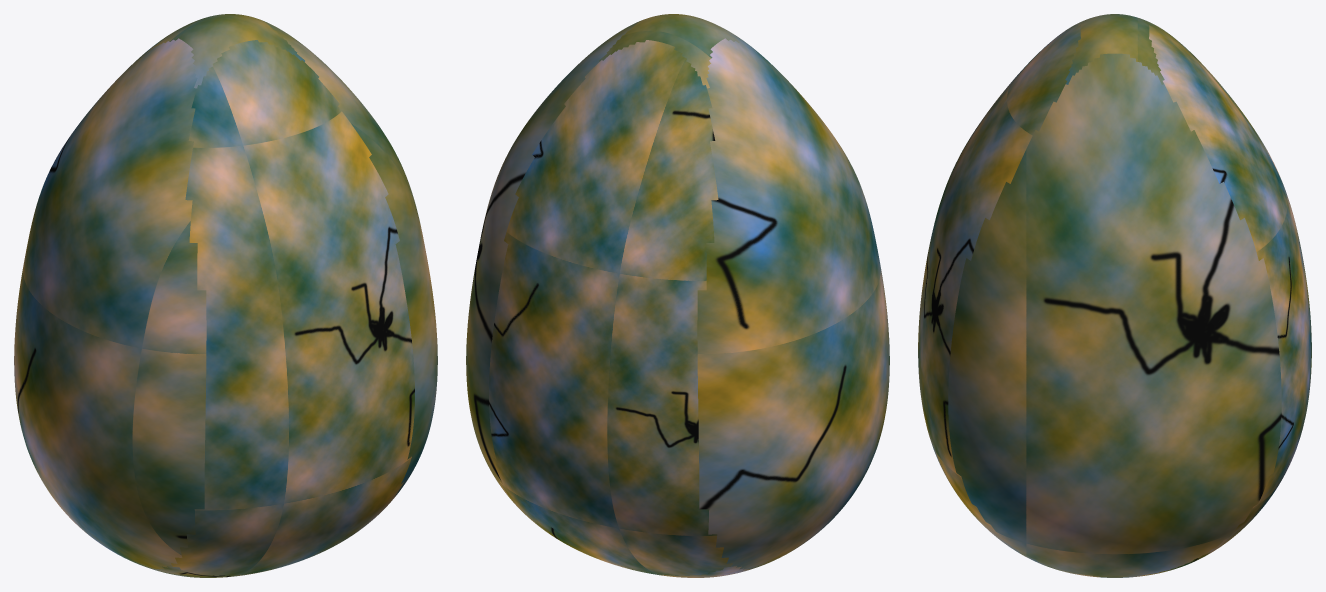
Rendered from egg.FBX.
The picture shows the model from 3 angles, left to right: view 1: azimuth 30°, elevation 25°; view 2: azimuth 150°, elevation 25°; view 3: azimuth 270°, elevation 25°; orthographic projection.
Parts seen in each view (by area): view 1: Box001; view 2: Box001; view 3: Box001.
Part boxes in pixels (x1,y1,x2,y2): Box001: (14, 14, 437, 577); Box001: (466, 14, 889, 577); Box001: (918, 14, 1311, 577).
Size of the model in its own units: 37.49 by 52.85 by 35.33.
Materials: 1 (1 with a texture image).
